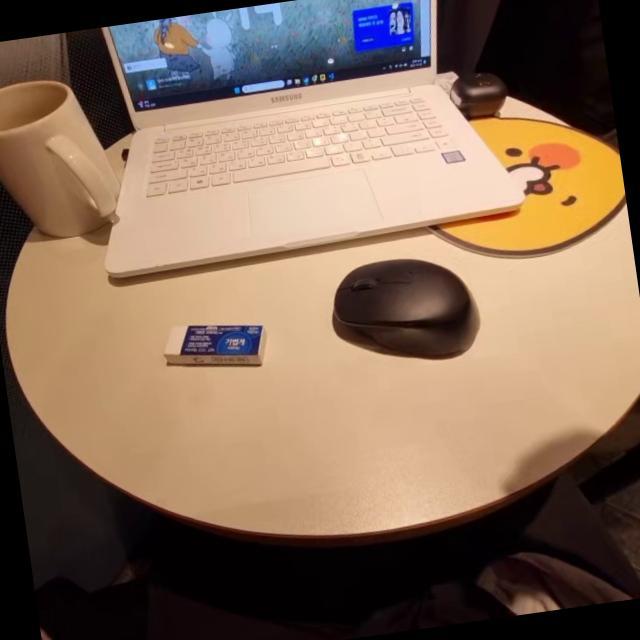eraser: (147, 305, 290, 395)
mouse: (328, 239, 500, 385)
